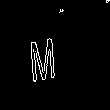M_N: (40, 27, 70, 83)
